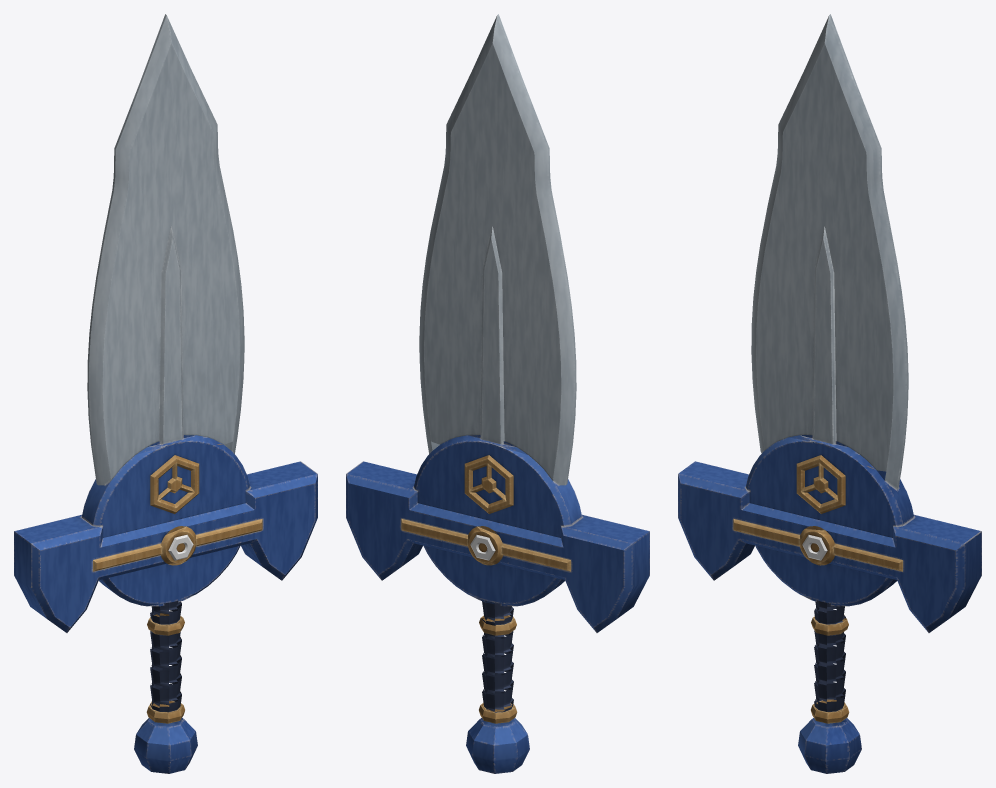
File: Bastion Wall.fbx
3 views of the same model, side by side, from view 1: azimuth 30°, elevation 25°; view 2: azimuth 150°, elevation 25°; view 3: azimuth 330°, elevation 25° (orthographic).
Parts seen in each view (by area): view 1: Bastion Wall_Body; view 2: Bastion Wall_Body; view 3: Bastion Wall_Body.
Boxes of the visible parts, x1=… form: Bastion Wall_Body: x1=14, y1=14, x2=317, y2=773; Bastion Wall_Body: x1=346, y1=14, x2=649, y2=773; Bastion Wall_Body: x1=678, y1=14, x2=981, y2=773.
Size of the model in its own units: 2.33 by 5.88 by 0.45.
